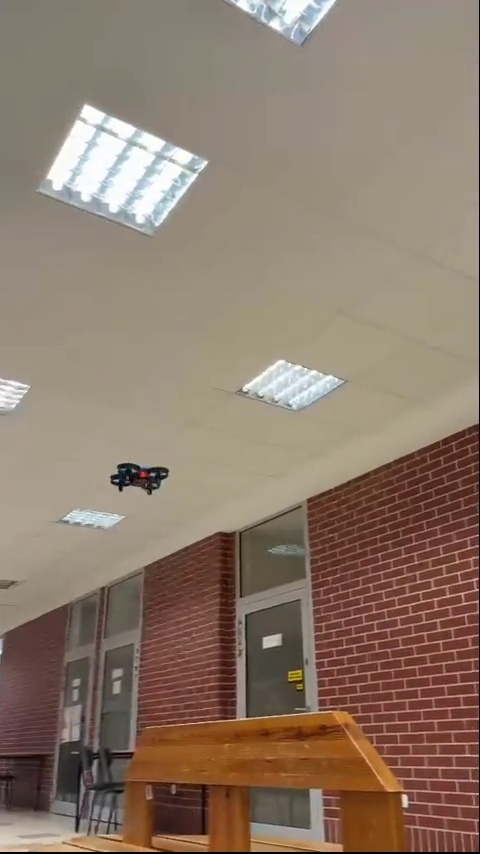drone: (112, 461, 169, 490)
